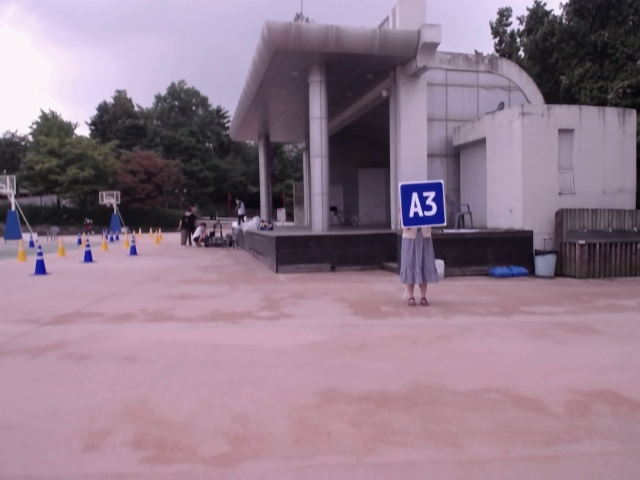delivery_a3: (399, 180, 446, 227)
